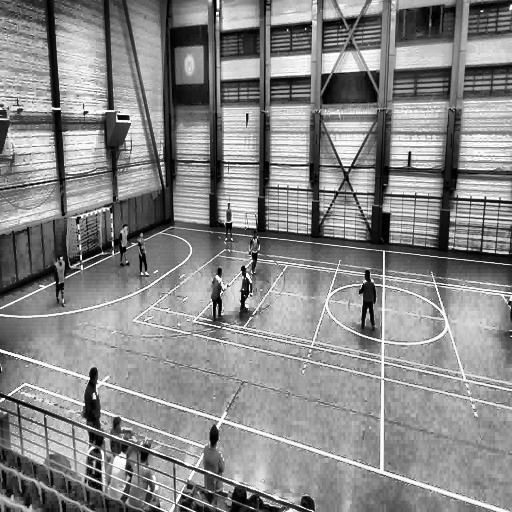ball: (243, 303, 249, 313)
player: (82, 369, 101, 442), (359, 269, 376, 332), (211, 268, 226, 322), (239, 264, 252, 315), (55, 254, 67, 305), (250, 227, 260, 276), (138, 234, 149, 276), (119, 226, 129, 268), (226, 202, 233, 242)
